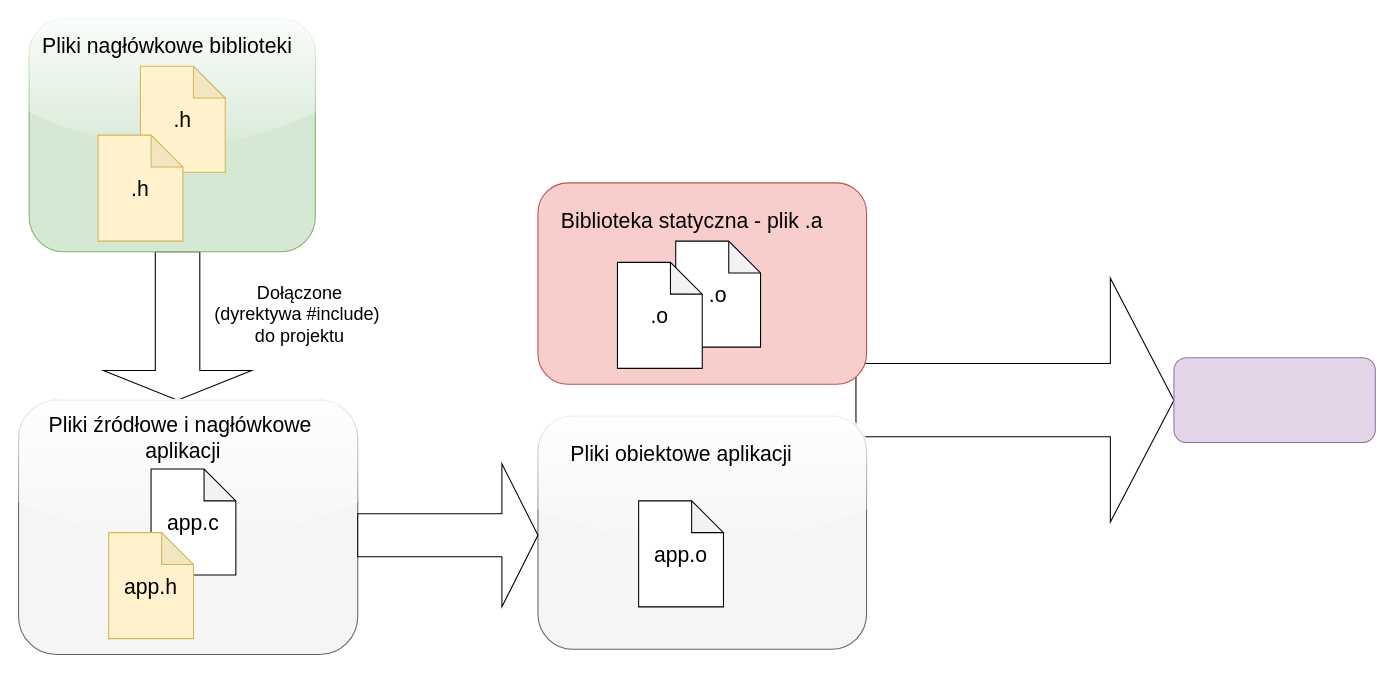
The diagram is 1394 pixels wide and 673 high, and some of its shapes have lost their labels. Here are the shapes that lost their labels. From the top down, the box of each, then its label:
(855, 277, 1174, 522): Linkowanie gcc -o app app.o -L. -l<nazwa_biblioteki>
(1173, 357, 1375, 443): Plik wykonywalny app
(357, 463, 538, 607): Kompilacja gcc -c *.c
